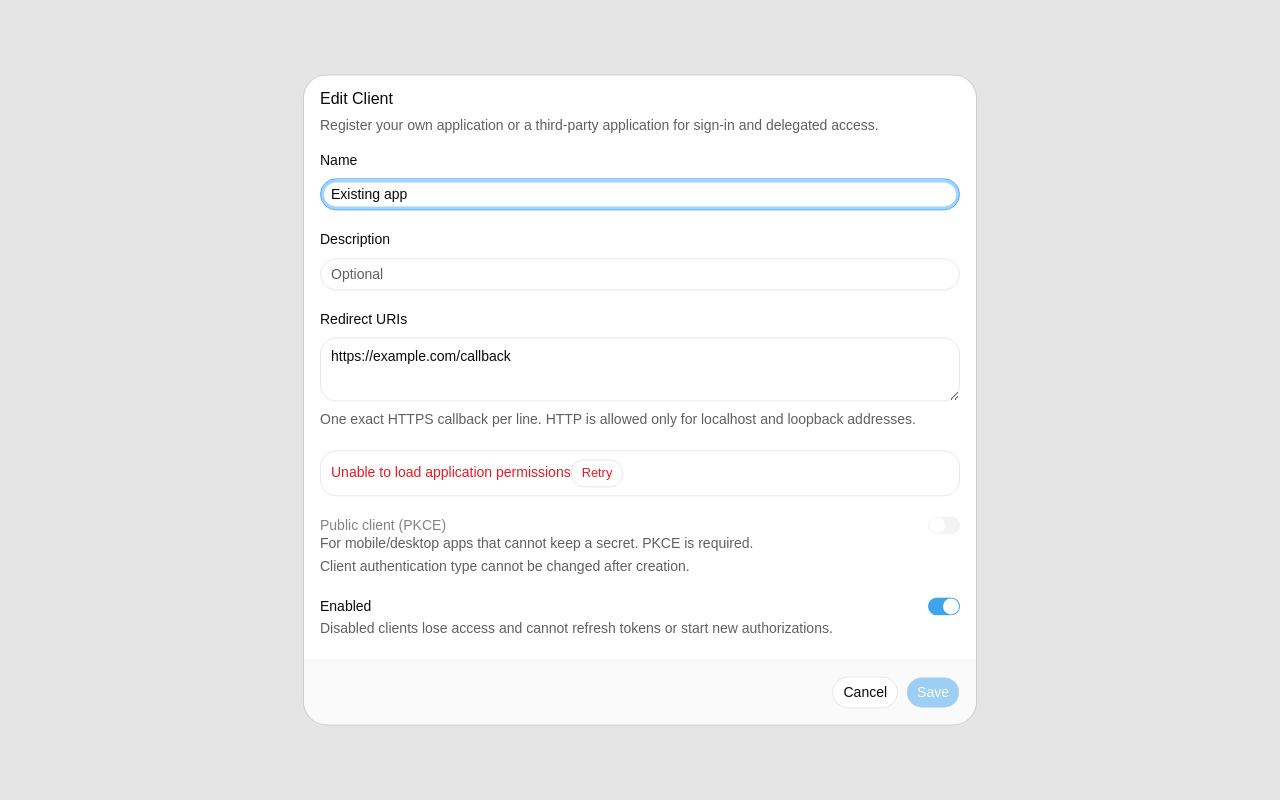
Test case: keeps the form blocked on a failed capability catalog and allows an explicit retry
Expected: the text "Unable to load application permissions" is shown, [331, 464, 571, 480]
Expected: the button "Save" is disabled, [906, 677, 960, 709]
Click the button "Retry" at (597, 473), box [571, 459, 623, 487]
(page scrolled)
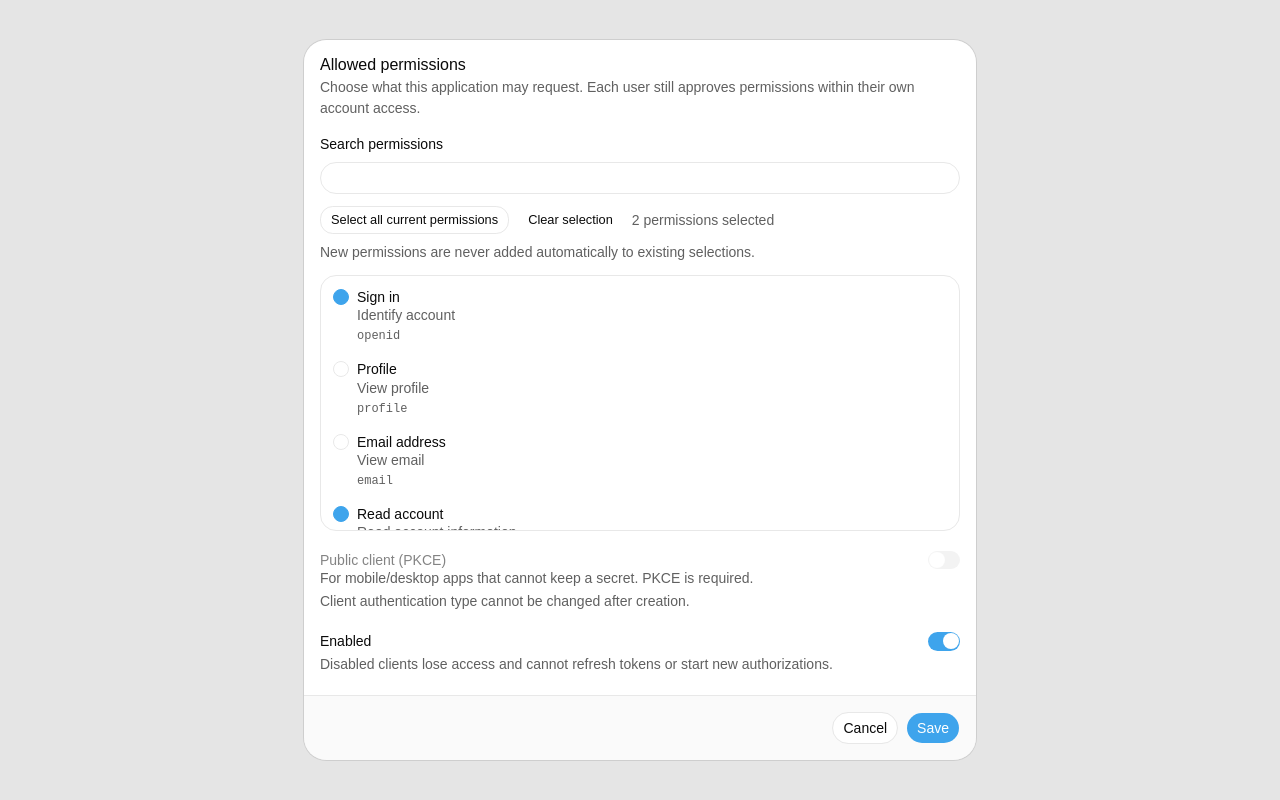
Result: the button "Save" is enabled at [906, 712, 960, 744]
